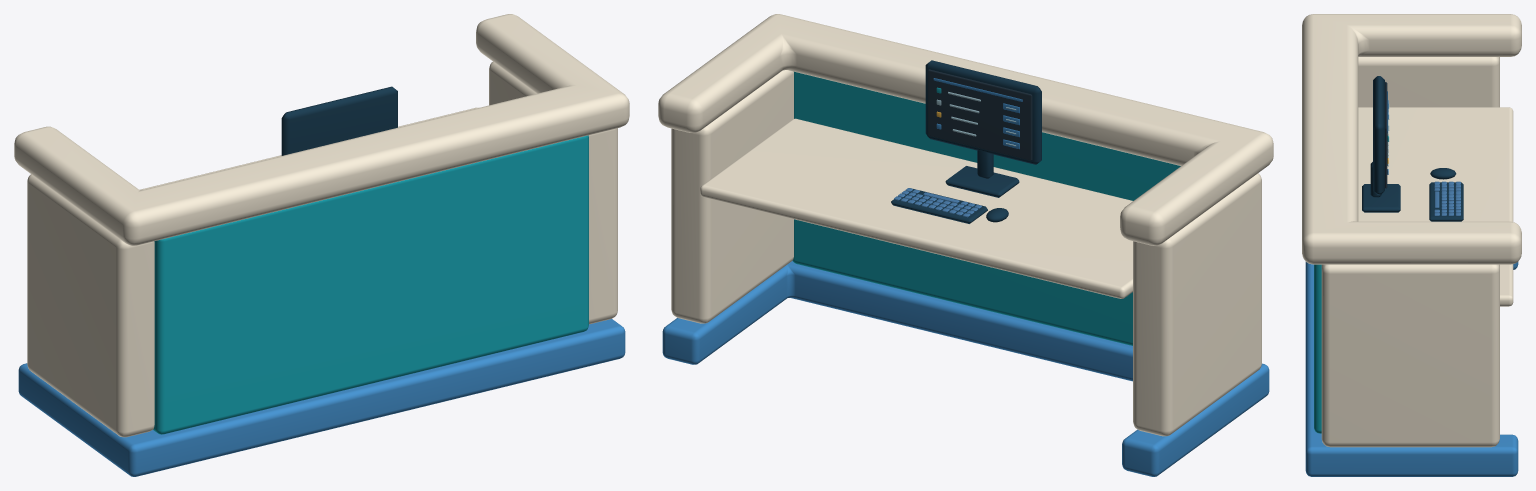
File: reception-equipped.glb
3 views of the same model, side by side, from view 1: azimuth 30°, elevation 25°; view 2: azimuth 150°, elevation 25°; view 3: azimuth 270°, elevation 25° (orthographic). The views are drawn at different scales.
Visible parts, largest first — view 1: 01_Reception_Counter__Visual; view 2: 01_Reception_Counter__Visual; view 3: 01_Reception_Counter__Visual.
Part boxes in pixels (x1=…): 01_Reception_Counter__Visual: x1=14, y1=14, x2=629, y2=476; 01_Reception_Counter__Visual: x1=658, y1=14, x2=1273, y2=476; 01_Reception_Counter__Visual: x1=1302, y1=14, x2=1521, y2=476.
Bounding box in the file's own units: 2.2 × 1.21 × 0.9.
1 material, 1 textured.
